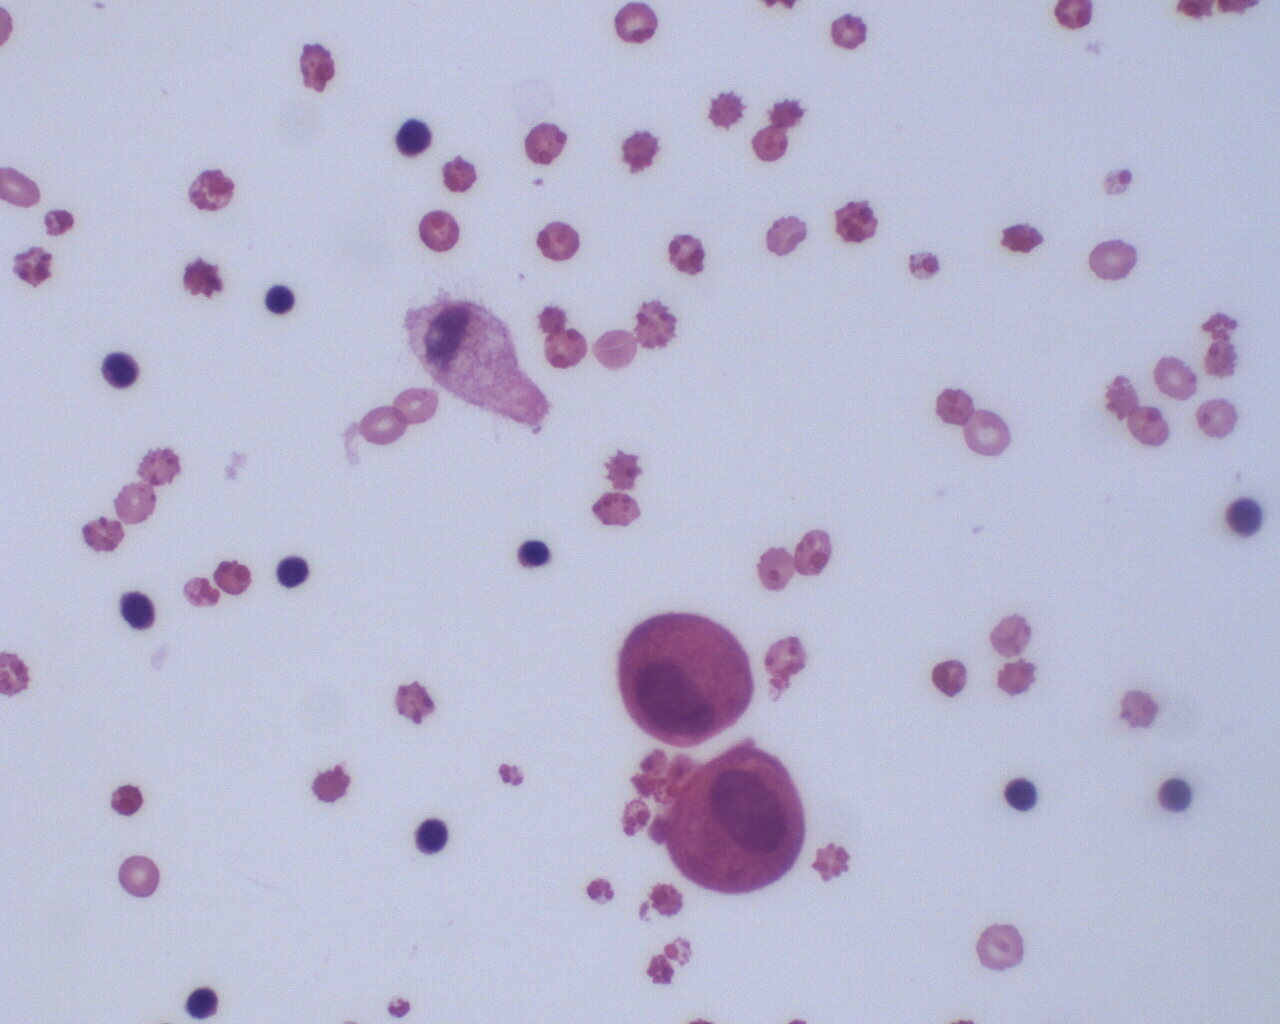lymph: (95, 347, 146, 395), (390, 115, 438, 163), (274, 551, 313, 602), (408, 815, 458, 855), (1000, 773, 1043, 815), (265, 274, 301, 319), (183, 983, 223, 1023), (515, 535, 553, 576)
meso: (658, 744, 810, 894), (609, 611, 757, 752)
